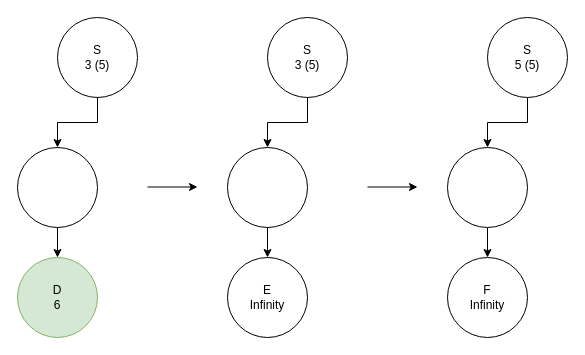
This 585x355 diagram has some shape labels left out. Each missing label, with the centre of its shape:
B 3: point (57, 187)
B 3 (6): point (267, 187)
B 6 (6): point (487, 187)
